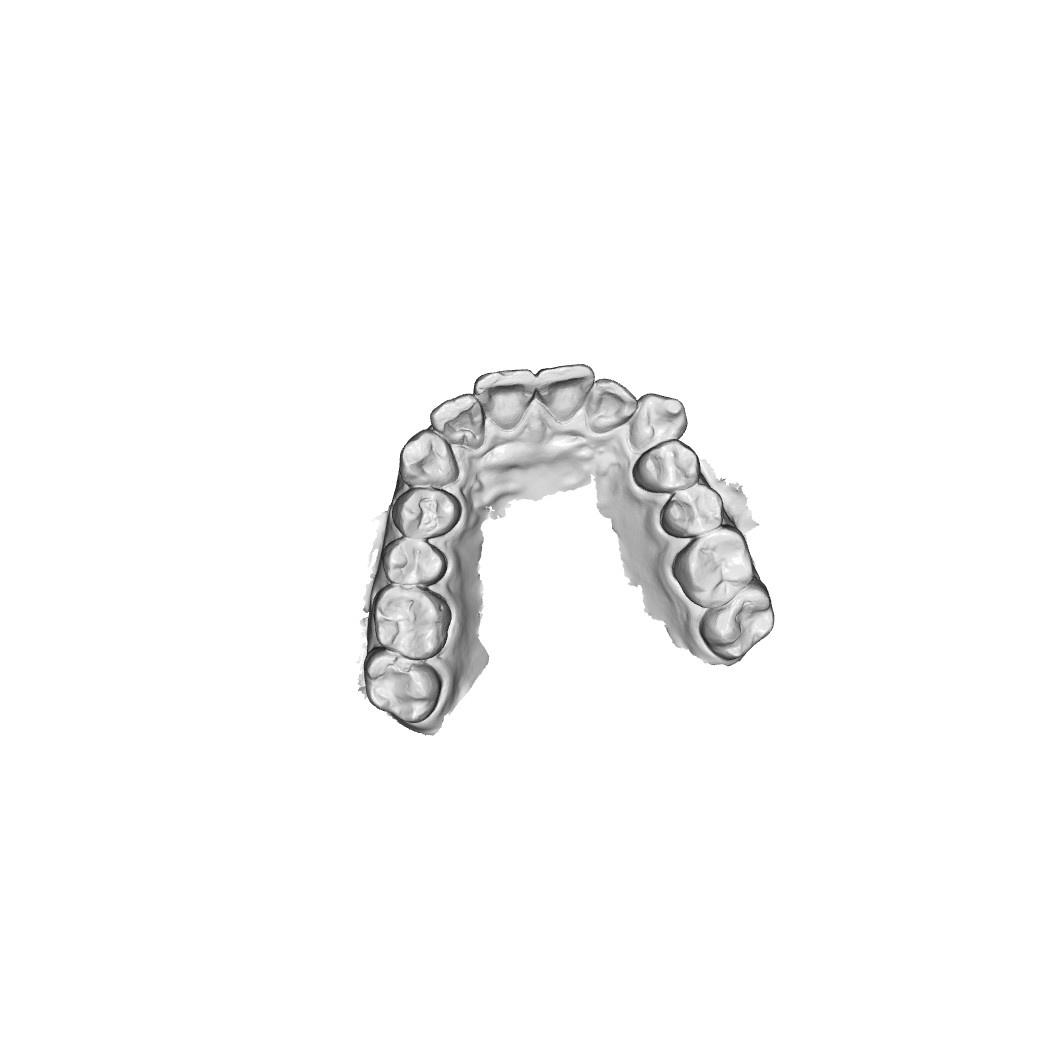canine: (400, 430, 459, 483), (630, 395, 689, 443)
incisor: (477, 369, 534, 427), (538, 363, 592, 420), (589, 379, 636, 439), (431, 398, 484, 449)
molar: (364, 651, 442, 727), (674, 528, 754, 602), (373, 586, 450, 657), (705, 590, 770, 660)
premolar: (393, 487, 464, 539), (634, 442, 703, 491), (382, 537, 454, 582), (664, 487, 721, 536)
